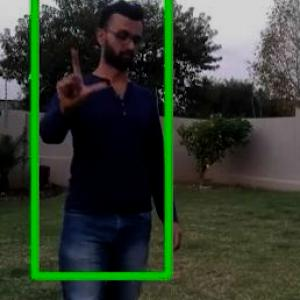land_hand: (49, 37, 109, 112)
